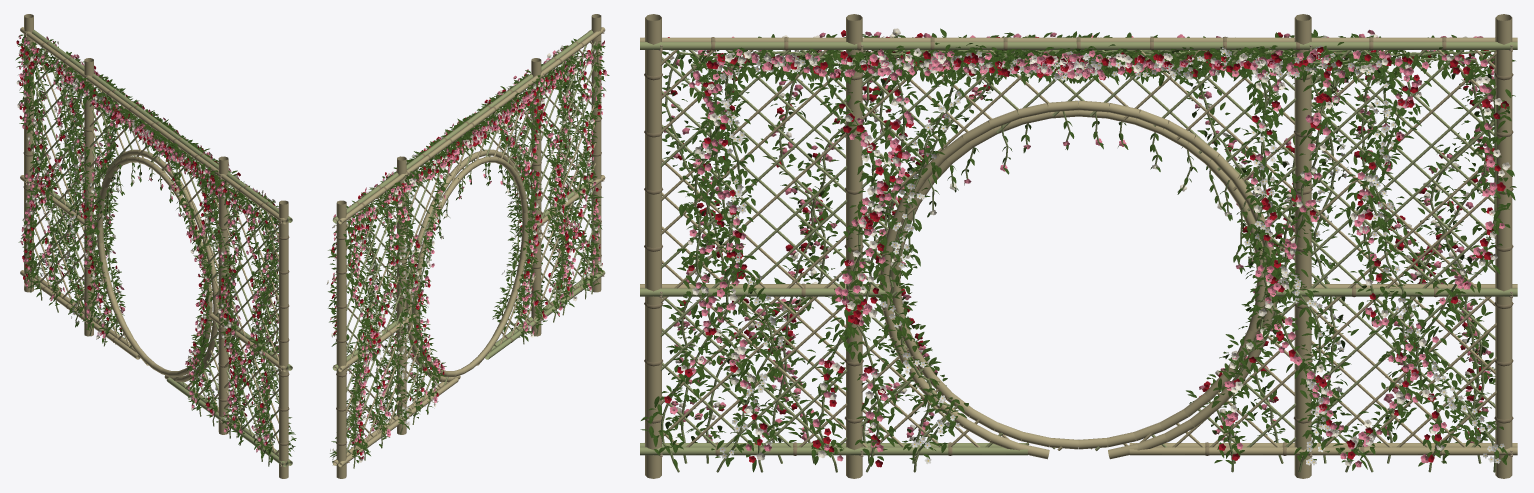
Rendered from yh_huazhang.glb.
3 views of the same model, side by side, from view 1: azimuth 30°, elevation 25°; view 2: azimuth 150°, elevation 25°; view 3: azimuth 270°, elevation 25° (orthographic). The views are drawn at different scales.
Parts seen in each view (by area): view 1: yh_huazhang_花叶, yh_huazhang_竹, yh_huazhang_竹青, yh_huazhang_茎, yh_huazhang_竹节; view 2: yh_huazhang_花叶, yh_huazhang_竹, yh_huazhang_竹青, yh_huazhang_茎, yh_huazhang_竹节; view 3: yh_huazhang_花叶, yh_huazhang_竹, yh_huazhang_竹青, yh_huazhang_茎, yh_huazhang_竹节.
Boxes of the visible parts, x1=… form: yh_huazhang_花叶: x1=15, y1=34, x2=296, y2=462; yh_huazhang_竹: x1=20, y1=14, x2=288, y2=478; yh_huazhang_竹青: x1=29, y1=30, x2=292, y2=466; yh_huazhang_茎: x1=24, y1=44, x2=278, y2=466; yh_huazhang_竹节: x1=23, y1=41, x2=289, y2=450; yh_huazhang_花叶: x1=326, y1=38, x2=609, y2=463; yh_huazhang_竹: x1=332, y1=14, x2=605, y2=478; yh_huazhang_竹青: x1=332, y1=29, x2=605, y2=453; yh_huazhang_茎: x1=346, y1=49, x2=599, y2=468; yh_huazhang_竹节: x1=336, y1=41, x2=601, y2=446; yh_huazhang_花叶: x1=640, y1=28, x2=1516, y2=472; yh_huazhang_竹: x1=640, y1=14, x2=1517, y2=478; yh_huazhang_竹青: x1=640, y1=42, x2=1517, y2=455; yh_huazhang_茎: x1=661, y1=50, x2=1496, y2=472; yh_huazhang_竹节: x1=644, y1=37, x2=1513, y2=455.
Bounding box in the file's own units: 0.1207 × 1 × 1.74.
Materials: 6 (1 with a texture image).
